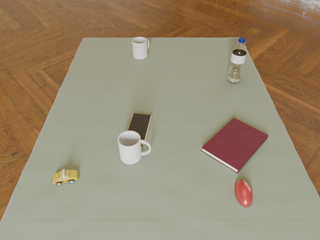book: (201, 118, 268, 173)
bottle: (227, 38, 247, 83)
cup: (118, 130, 151, 164), (132, 37, 149, 59)
mouse: (235, 180, 253, 207)
phone: (127, 113, 152, 145)
toy_car: (53, 169, 78, 185)
